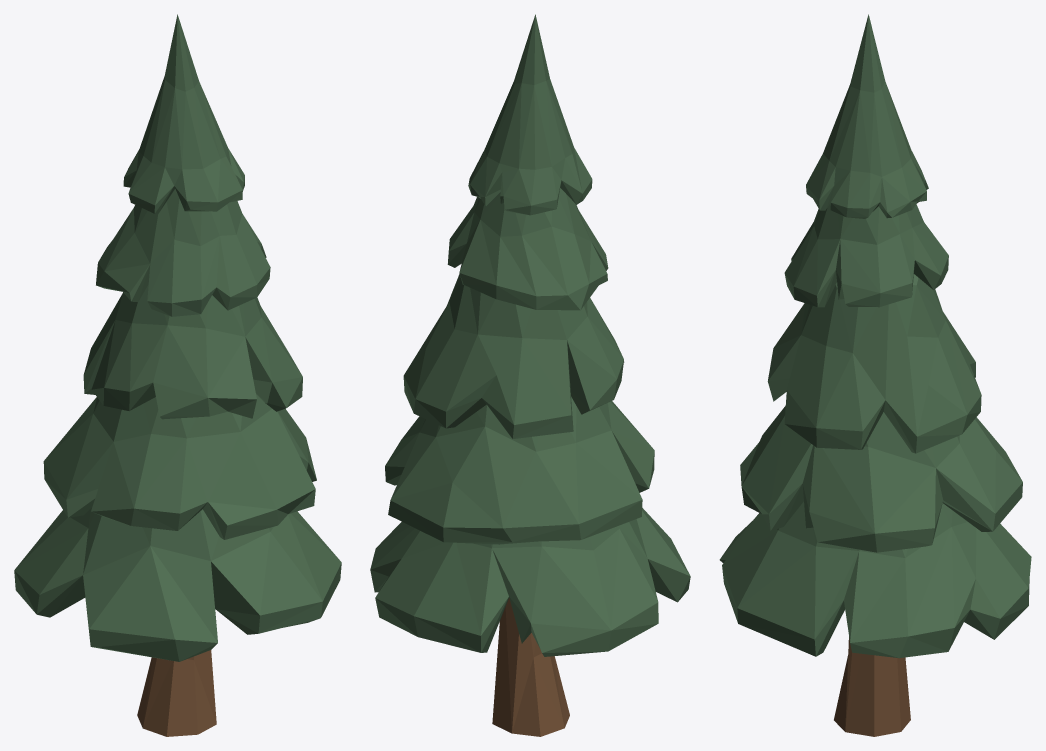
The model's file is Tree03.fbx.
3 views of the same model, side by side, from view 1: azimuth 30°, elevation 25°; view 2: azimuth 150°, elevation 25°; view 3: azimuth 270°, elevation 25° (orthographic).
Visible parts, largest first — view 1: Tree03; view 2: Tree03; view 3: Tree03.
Boxes of the visible parts, x1=… form: Tree03: x1=14, y1=14, x2=341, y2=736; Tree03: x1=370, y1=14, x2=690, y2=736; Tree03: x1=719, y1=14, x2=1031, y2=736.
Size of the model in its own units: 2.2 by 5.41 by 2.17.
